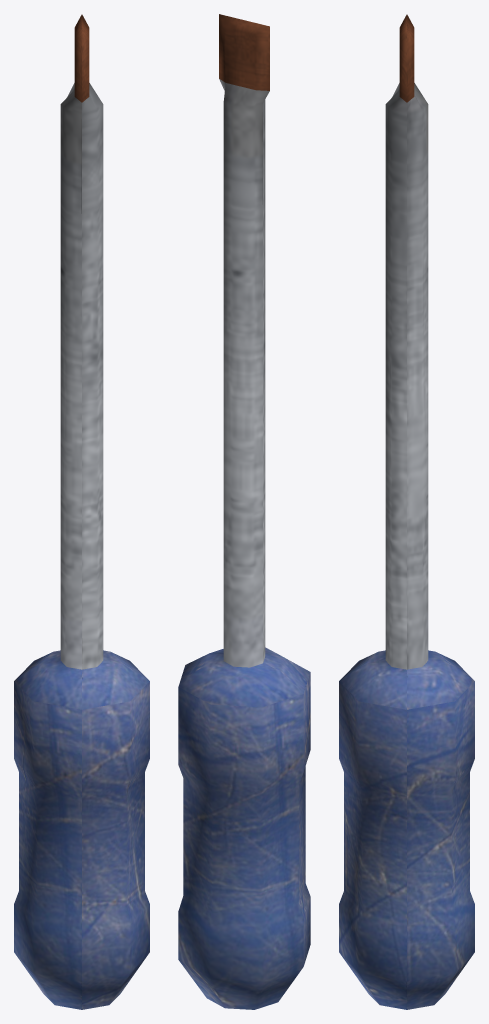
Rendered from screwdriver.obj.
The picture shows the model from 3 angles, left to right: view 1: azimuth 90°, elevation 25°; view 2: azimuth 150°, elevation 25°; view 3: azimuth 270°, elevation 25°; orthographic projection.
Visible parts, largest first — view 1: Circle; view 2: Circle; view 3: Circle.
Part boxes in pixels (box(x1,y1,x2,y2)): Circle: box(14, 14, 149, 1009); Circle: box(178, 14, 310, 1009); Circle: box(339, 14, 474, 1009).
Bounding box in the file's own units: 2 × 15.79 × 2.
Materials: 1 (1 with a texture image).
